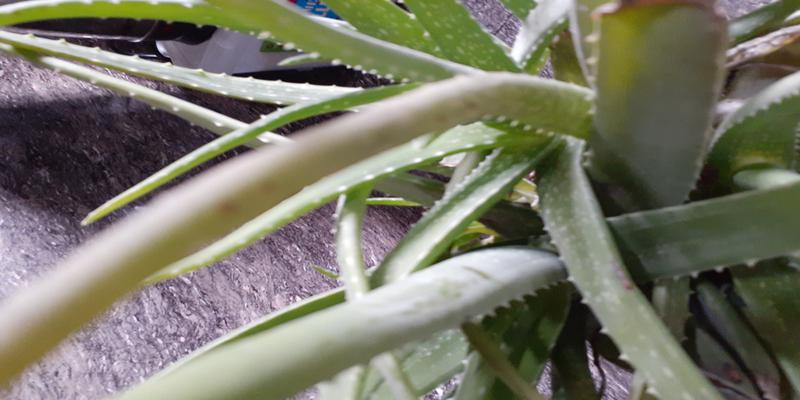Aloevera: (194, 25, 794, 365)
